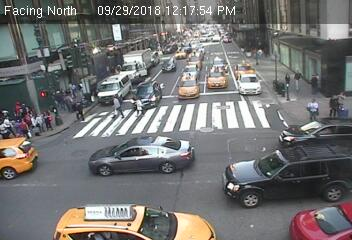car: (223, 138, 352, 204), (54, 199, 216, 240), (86, 134, 198, 176), (281, 114, 351, 151), (288, 202, 352, 240), (1, 138, 37, 179), (119, 49, 151, 81), (133, 78, 164, 110), (96, 76, 130, 102), (236, 73, 263, 97), (178, 74, 199, 101), (208, 66, 229, 90), (234, 60, 256, 77), (209, 57, 231, 72), (183, 62, 200, 78), (159, 57, 178, 70), (147, 47, 160, 64), (175, 45, 188, 59), (189, 51, 205, 62), (163, 42, 177, 54), (197, 32, 211, 43), (220, 35, 234, 43), (208, 33, 220, 42)
